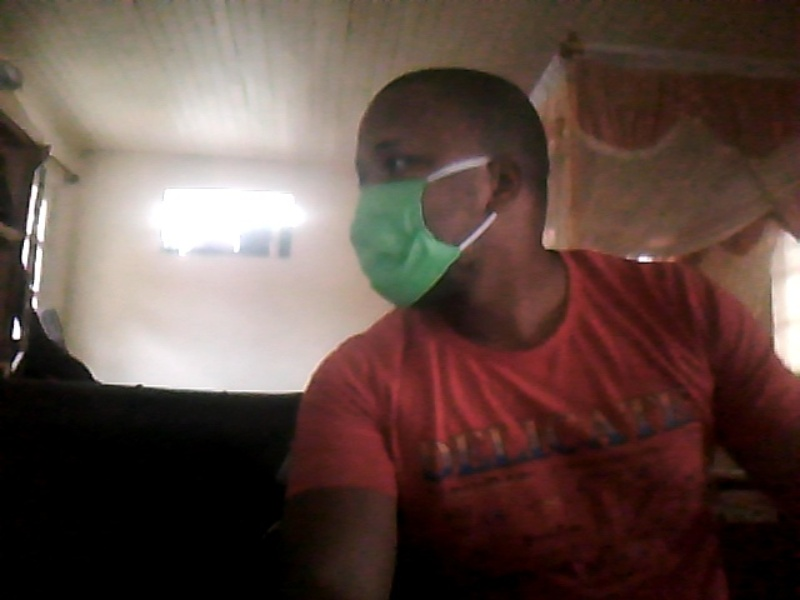ManaoArotava: (321, 75, 512, 311)
